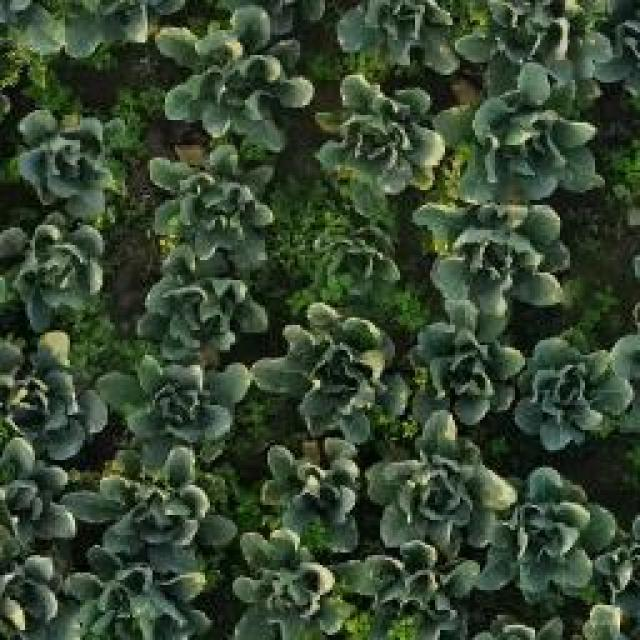cabbage: (150, 2, 314, 139), (443, 64, 601, 194), (372, 421, 512, 555), (260, 304, 402, 431), (424, 196, 568, 319), (100, 333, 250, 451), (89, 444, 238, 560), (488, 469, 618, 600), (141, 140, 282, 260), (310, 70, 443, 196), (6, 100, 131, 217), (342, 537, 482, 640), (515, 329, 634, 448), (0, 217, 117, 326), (232, 529, 345, 640), (136, 260, 268, 354), (258, 432, 362, 551), (59, 567, 214, 640), (0, 327, 90, 437), (412, 330, 507, 432), (0, 437, 79, 558), (308, 209, 406, 294)
